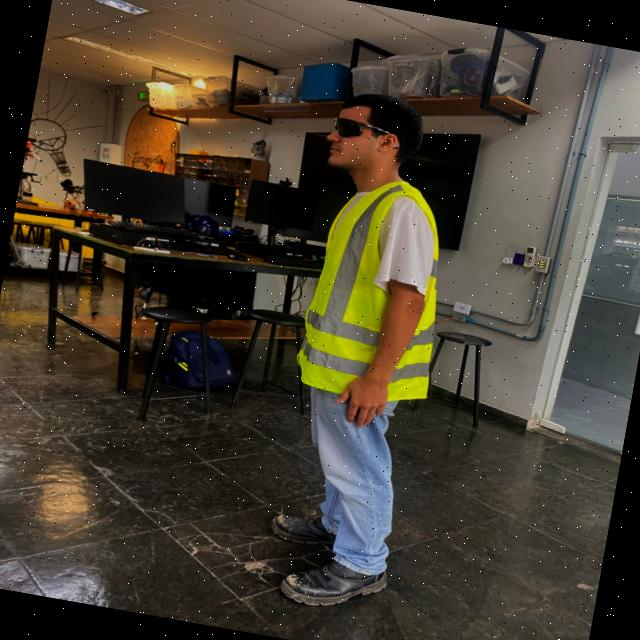BOTA: (279, 550, 392, 611), (267, 513, 361, 548)
COLETE: (298, 179, 445, 406)
OCULOS: (331, 115, 403, 151)
SEM LUVA: (337, 374, 390, 427)
